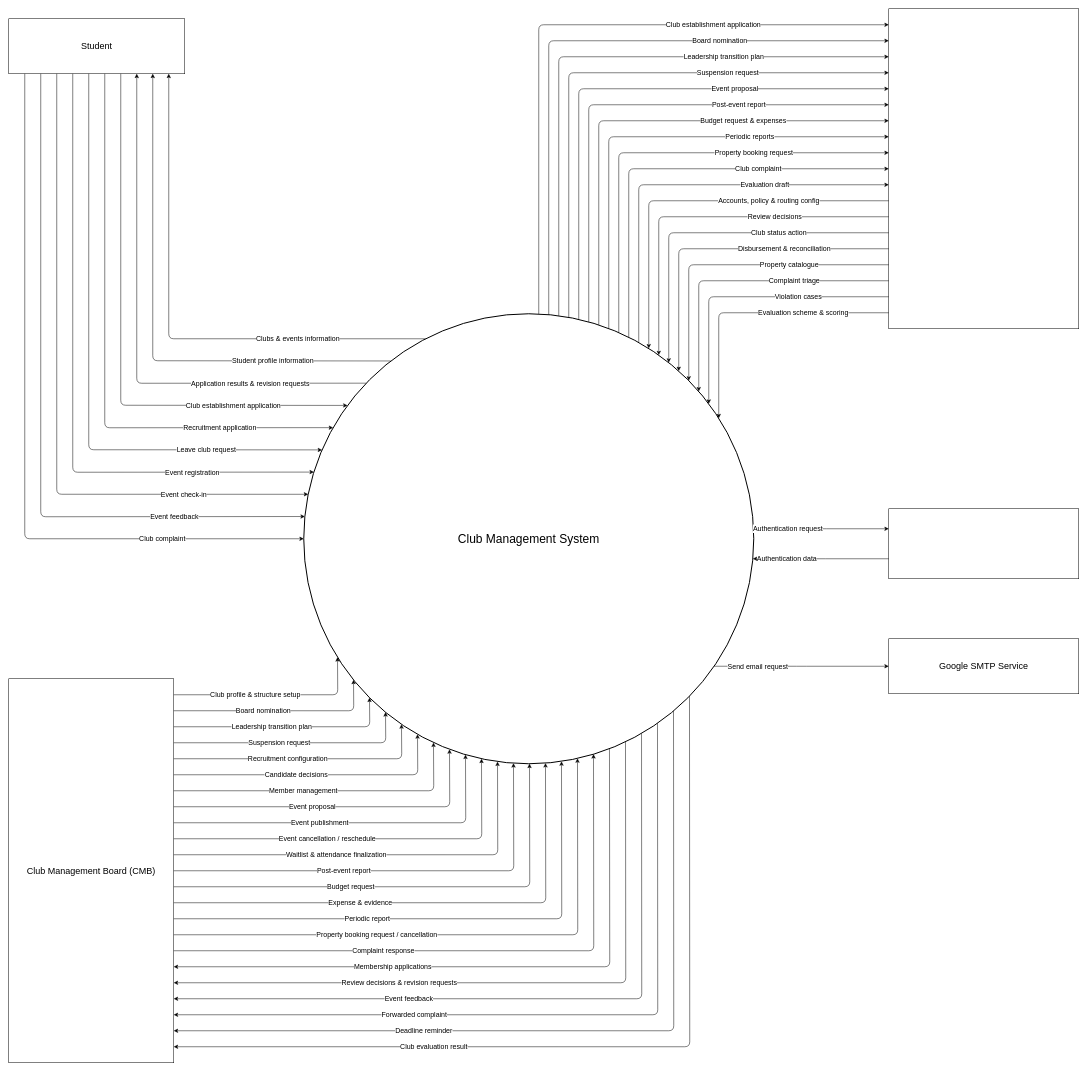
Image size: 1088x1072. Some labels were removed from this diagram. The shapes that lost their labels are listed below. From the top down, each one's box as (x1, y1, x2, y2) in pixels, then its label:
(888, 8, 1079, 329): ICPDP Officer
(888, 508, 1079, 579): Google OAuth
